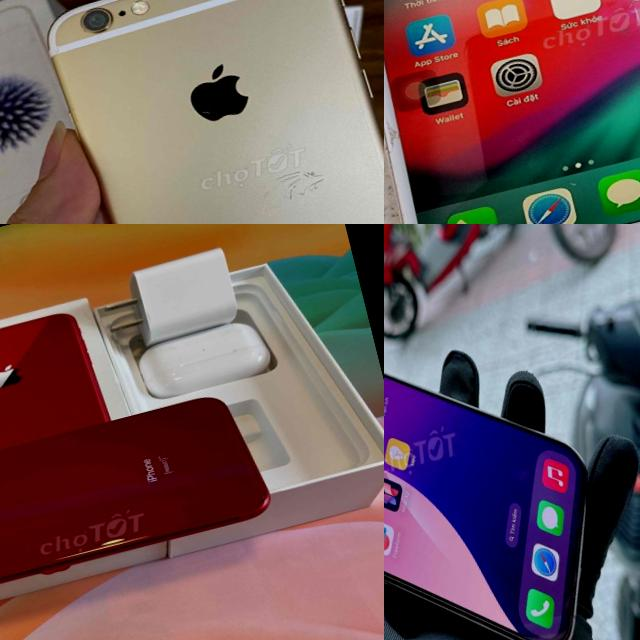gen_16: (384, 264, 631, 640)
gen_6: (24, 0, 384, 224), (384, 0, 640, 224)
gen_7_8: (0, 385, 277, 622)
